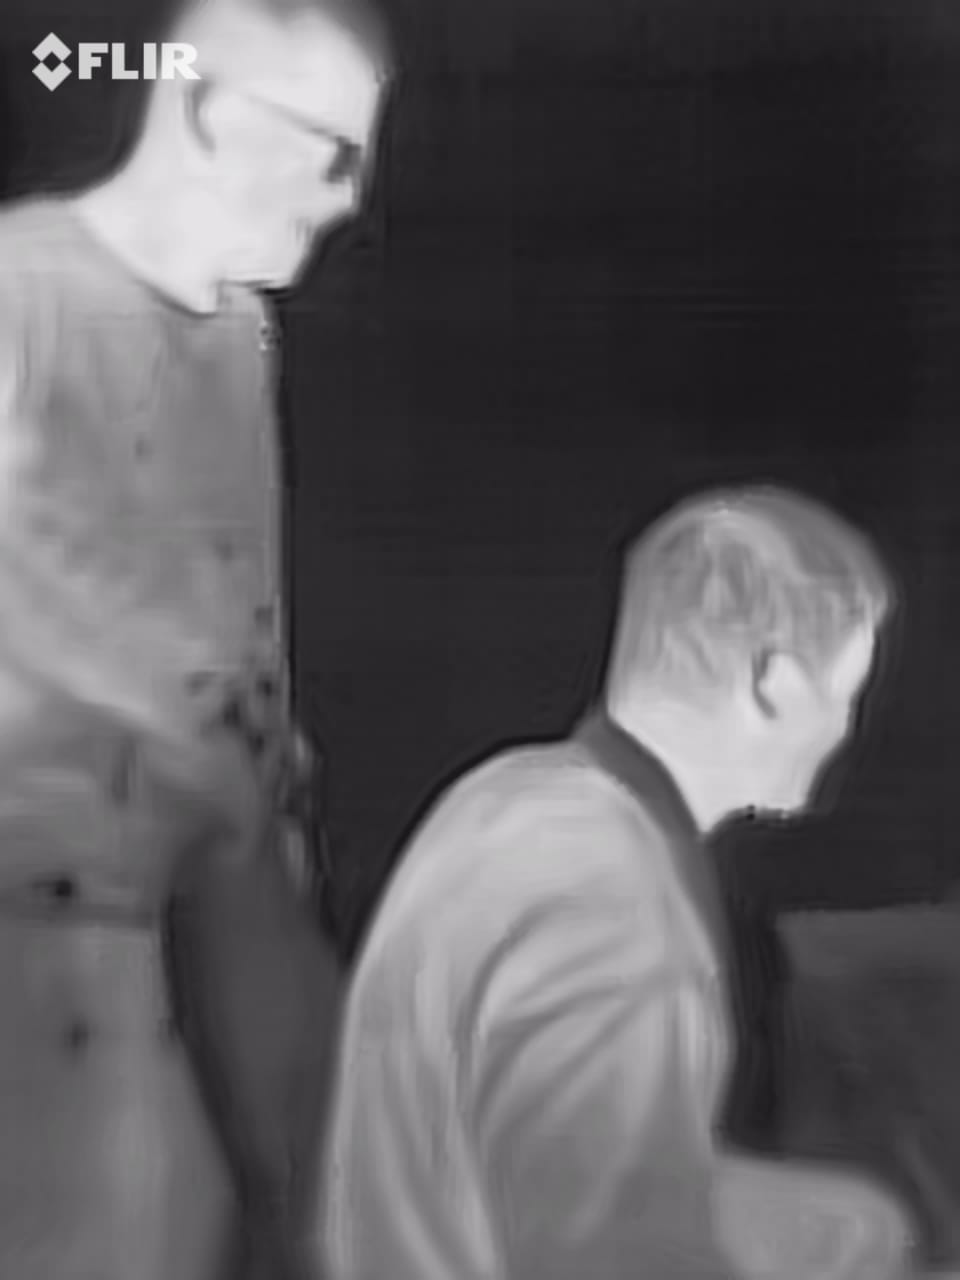head: (610, 473, 884, 842), (136, 8, 415, 314)
